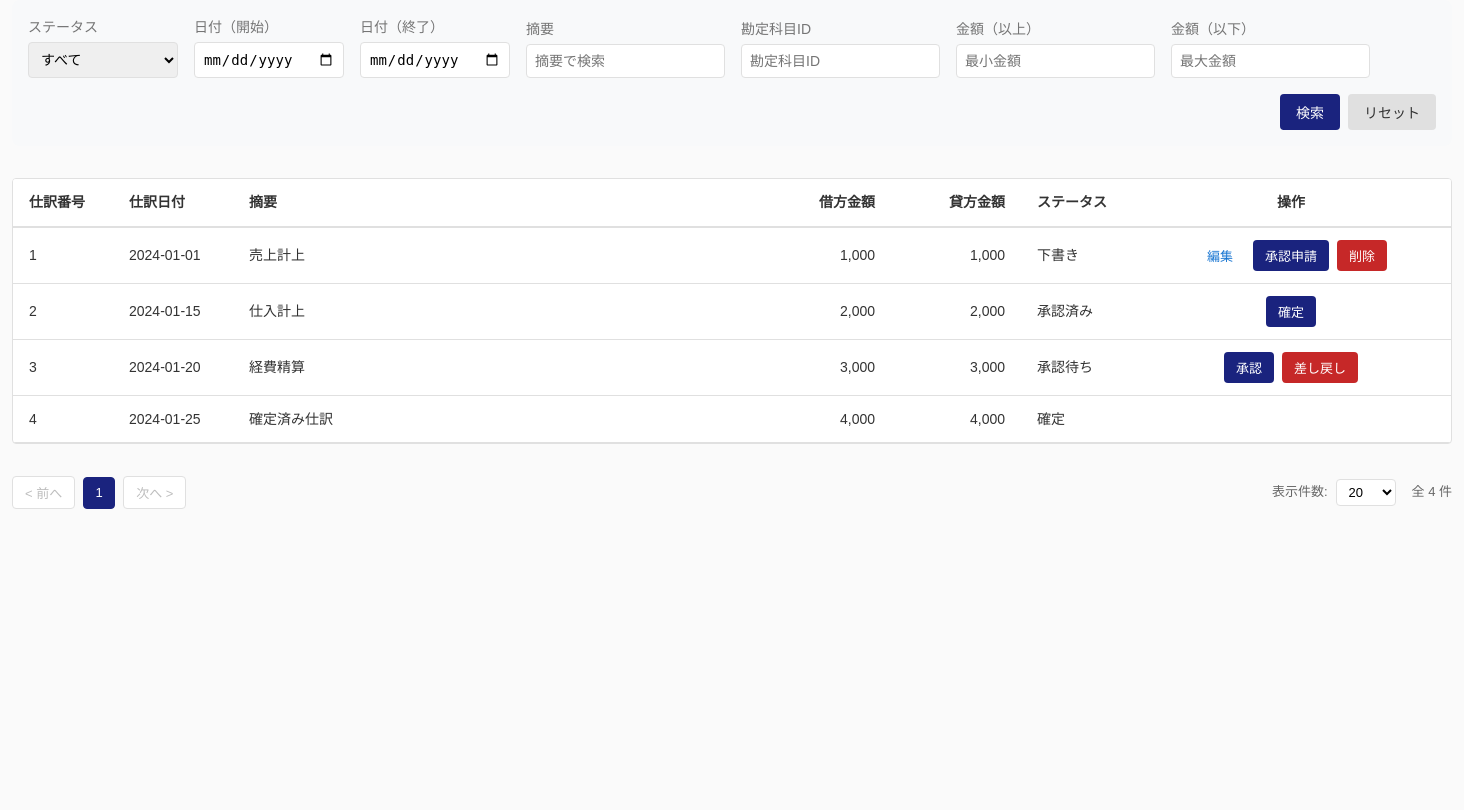
it: JournalEntryList › 承認成功時に成功メッセージを表示する
Click the button "承認": click(1249, 367) [1224,352,1274,383]
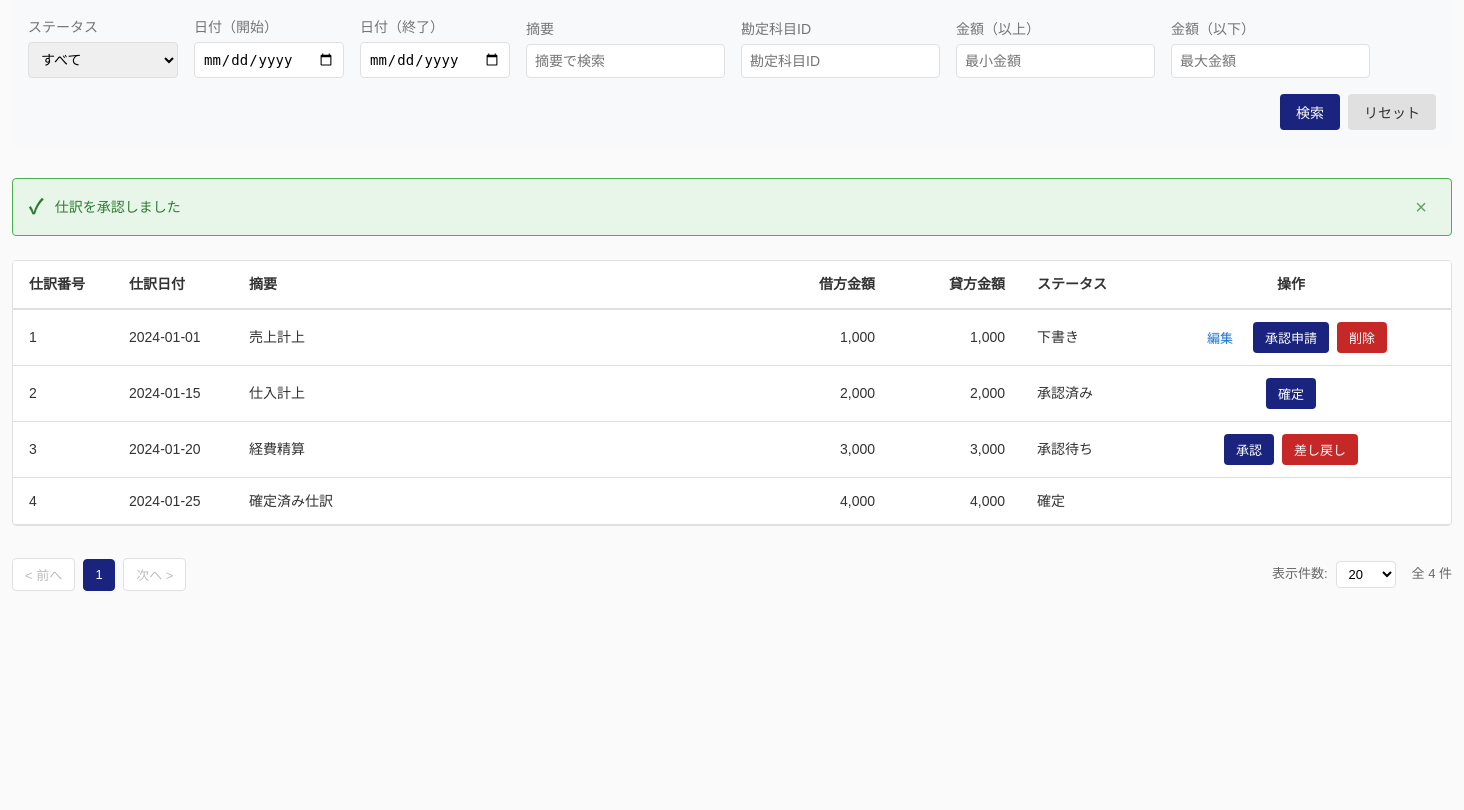
expect the element with test id "success-notification" shows "仕訳を承認しました": met, box [55,199,181,215]
